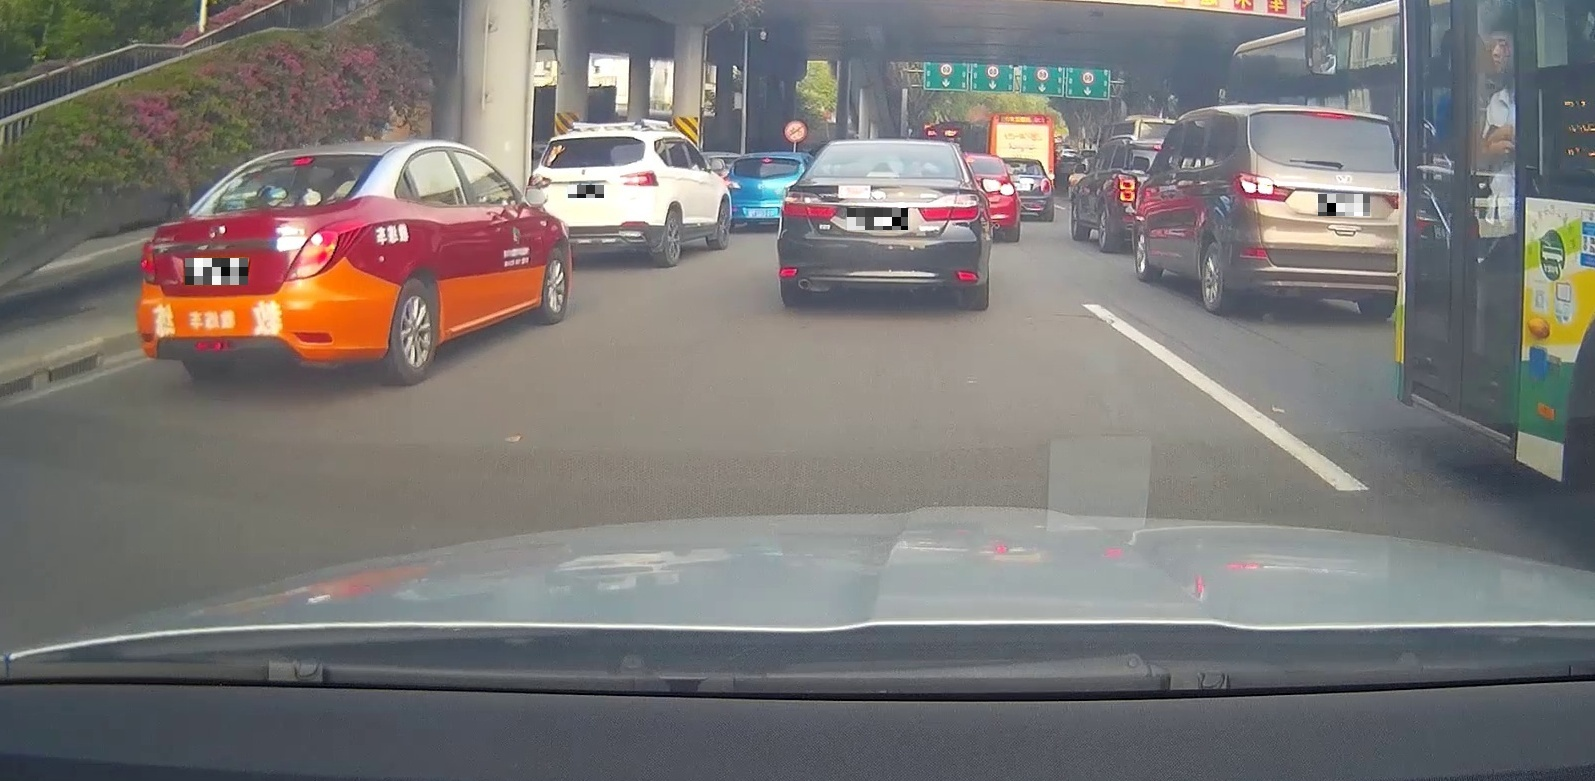L_light: (1233, 173, 1296, 204), (781, 190, 837, 219), (139, 240, 157, 285), (524, 174, 551, 192)
R_light: (282, 217, 371, 282), (918, 193, 980, 222), (621, 170, 660, 187), (1382, 191, 1401, 208)
T_light: (1312, 110, 1354, 121), (867, 171, 899, 179), (290, 157, 315, 165), (581, 136, 604, 140)
day-brake: (134, 144, 407, 388), (1226, 103, 1407, 318)
day-no: (778, 140, 988, 310), (524, 132, 664, 266)
plate_1: (185, 258, 248, 285)
plate_2: (568, 185, 604, 198)
plate_3: (847, 208, 908, 230)
plate_4: (1318, 194, 1370, 216)
